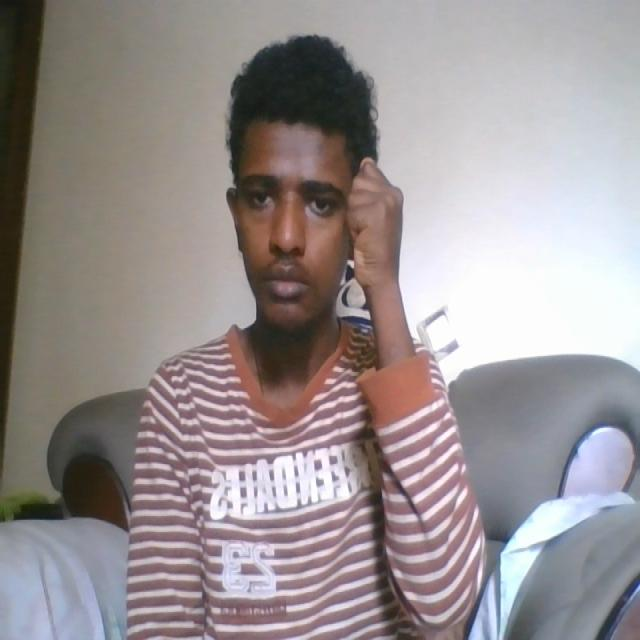agot: (323, 148, 416, 288)
